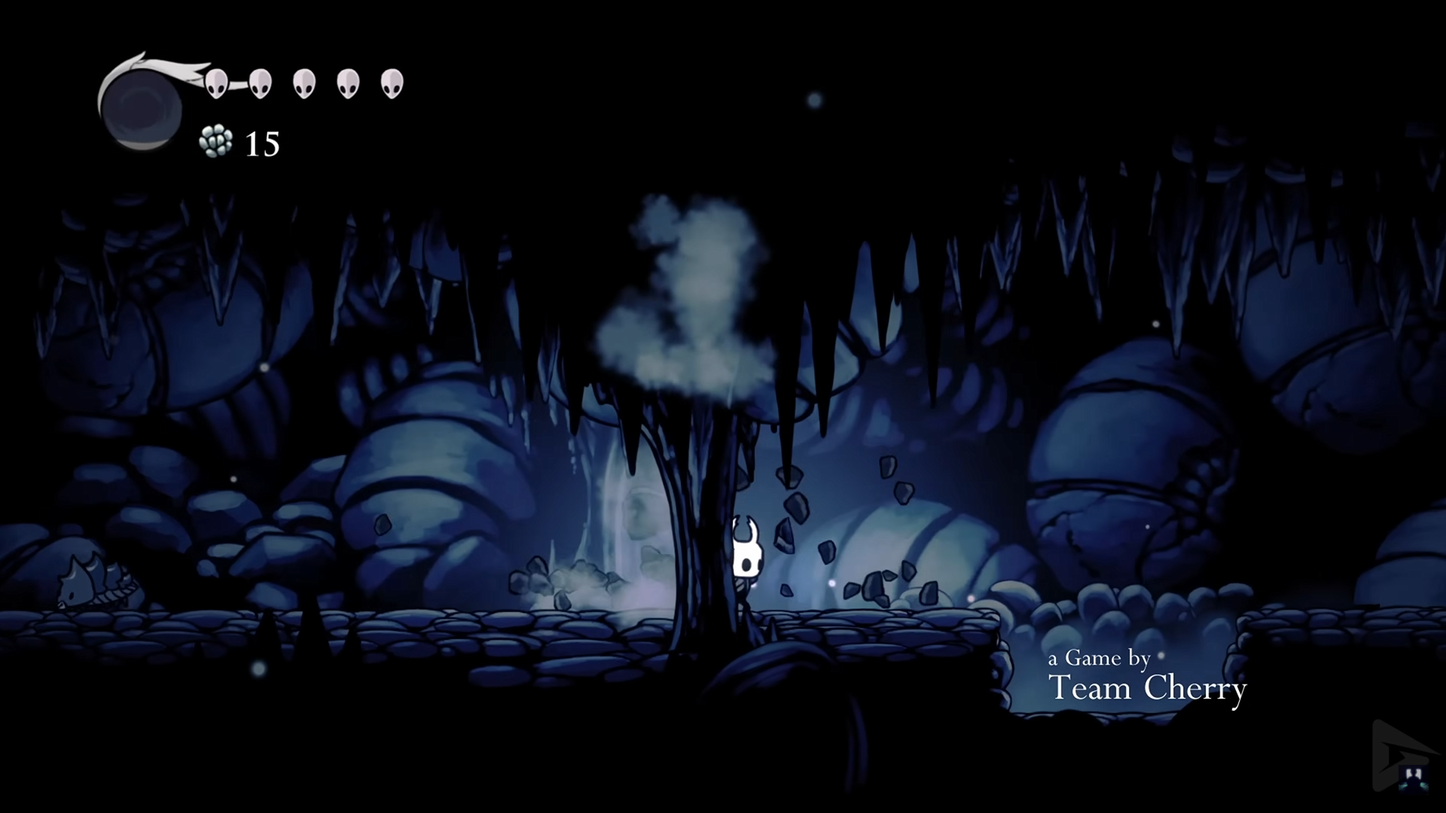HK: (721, 513, 768, 609)
